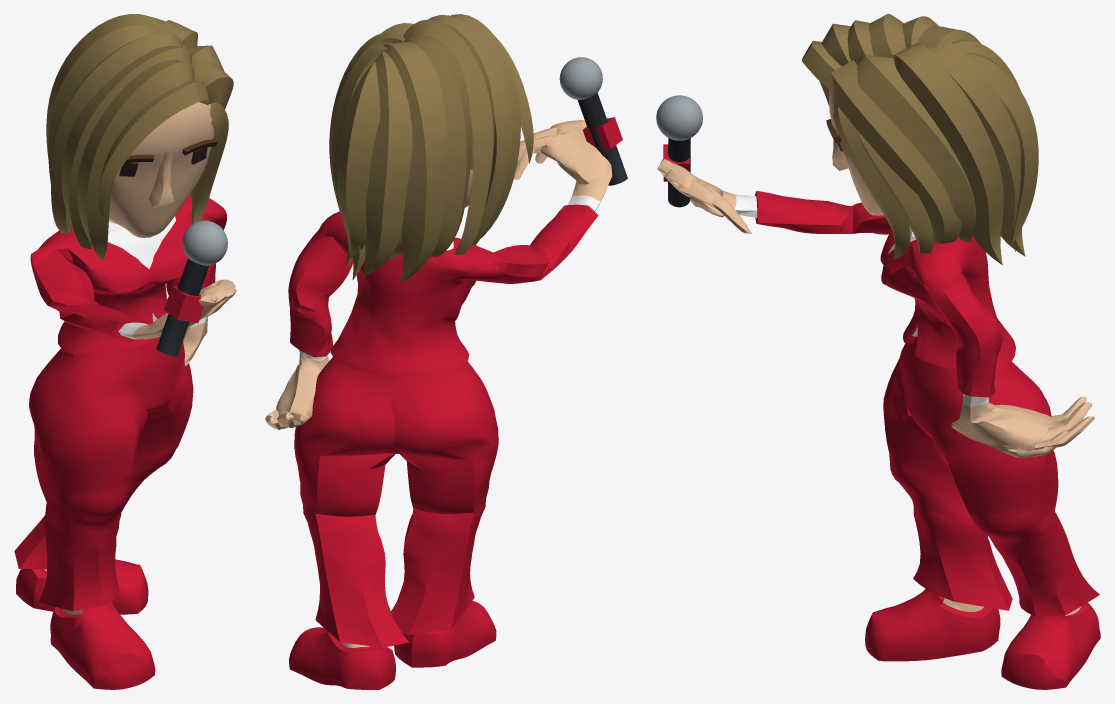
File: av-reporter-campo.glb
3 renders of one model, left to right at view 1: azimuth 30°, elevation 25°; view 2: azimuth 150°, elevation 25°; view 3: azimuth 270°, elevation 25°, orthographic. The views are drawn at different scales.
Visible parts, largest first — view 1: Ad_microfone_0_0; view 2: Ad_microfone_0_0; view 3: Ad_microfone_0_0.
Boxes of the visible parts, x1,y1,x2,y2 form: Ad_microfone_0_0: (14,14,236,689); Ad_microfone_0_0: (265,14,627,689); Ad_microfone_0_0: (656,14,1100,689).
Bounding box in the file's own units: 0.4799 × 1.35 × 0.8429.
1 material, 1 textured.
